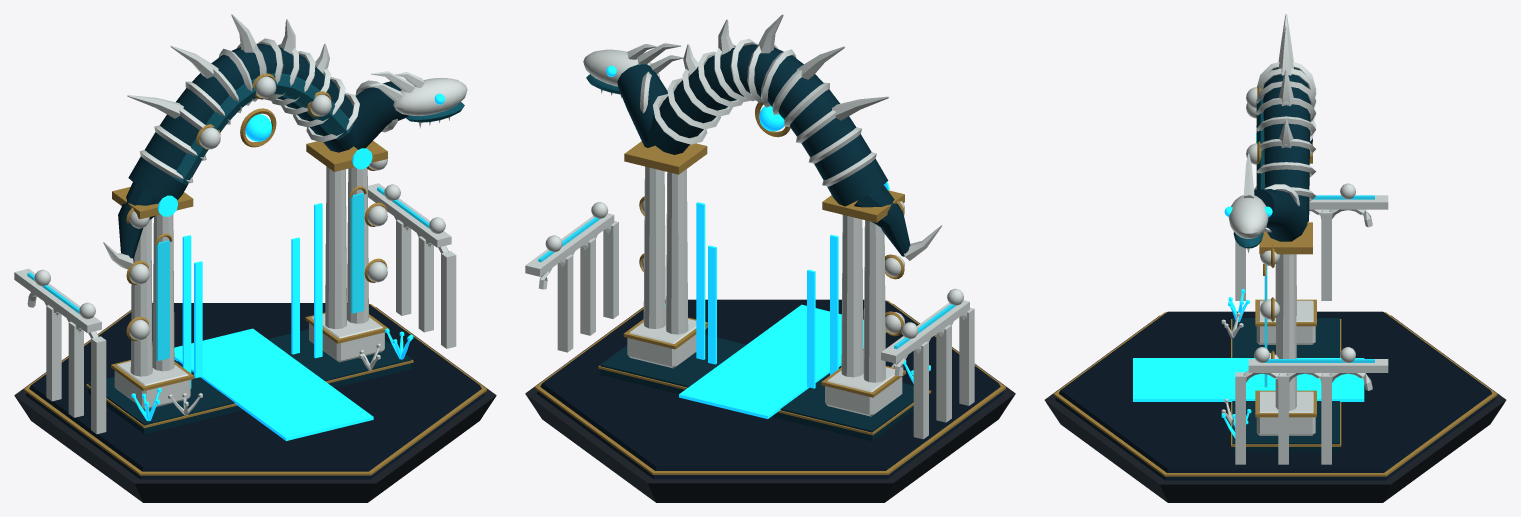
The model's file is poseidon_apex_leviathan_gate.glb.
The picture shows the model from 3 angles, left to right: view 1: azimuth 30°, elevation 25°; view 2: azimuth 150°, elevation 25°; view 3: azimuth 270°, elevation 25°; orthographic projection. The views are drawn at different scales.
Visible parts, largest first — view 1: poseidon_apex_leviathan_gate; view 2: poseidon_apex_leviathan_gate; view 3: poseidon_apex_leviathan_gate.
Boxes of the visible parts, left/top/right/bottom form: poseidon_apex_leviathan_gate: left=14, top=14, right=496, bottom=502; poseidon_apex_leviathan_gate: left=525, top=14, right=1015, bottom=502; poseidon_apex_leviathan_gate: left=1044, top=14, right=1506, bottom=502.
Size of the model in its own units: 1.56 by 1.6 by 1.72.
1 material, 1 textured.
